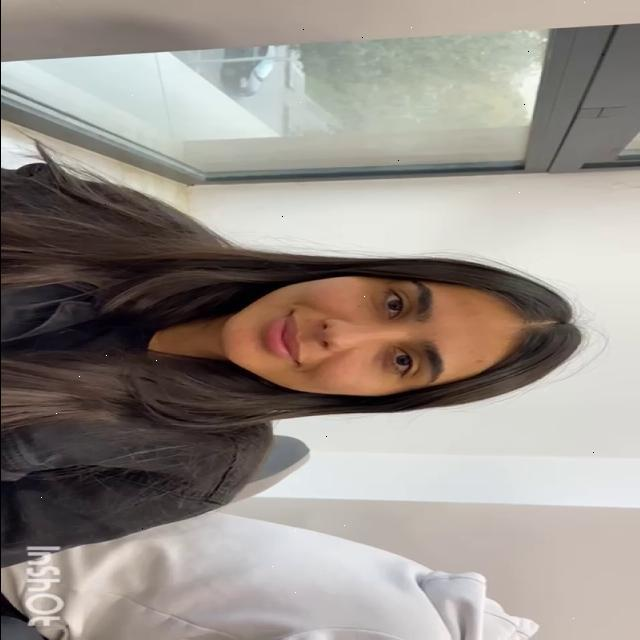happy: (239, 275, 497, 399)
